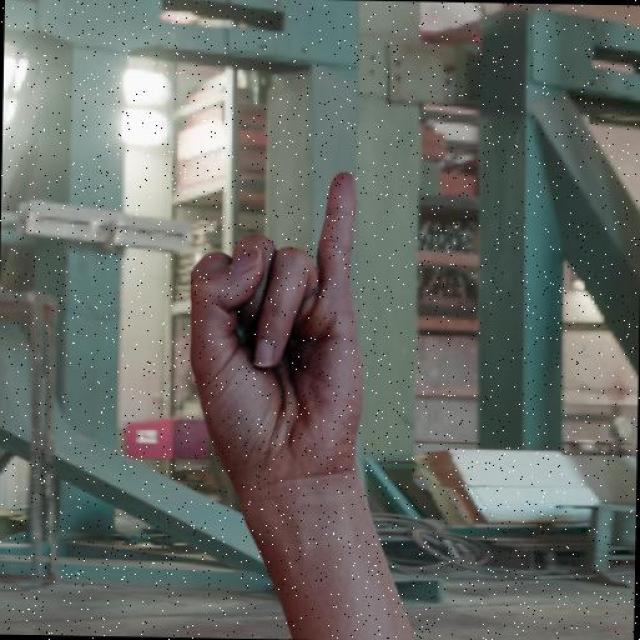I: (186, 168, 368, 482)
